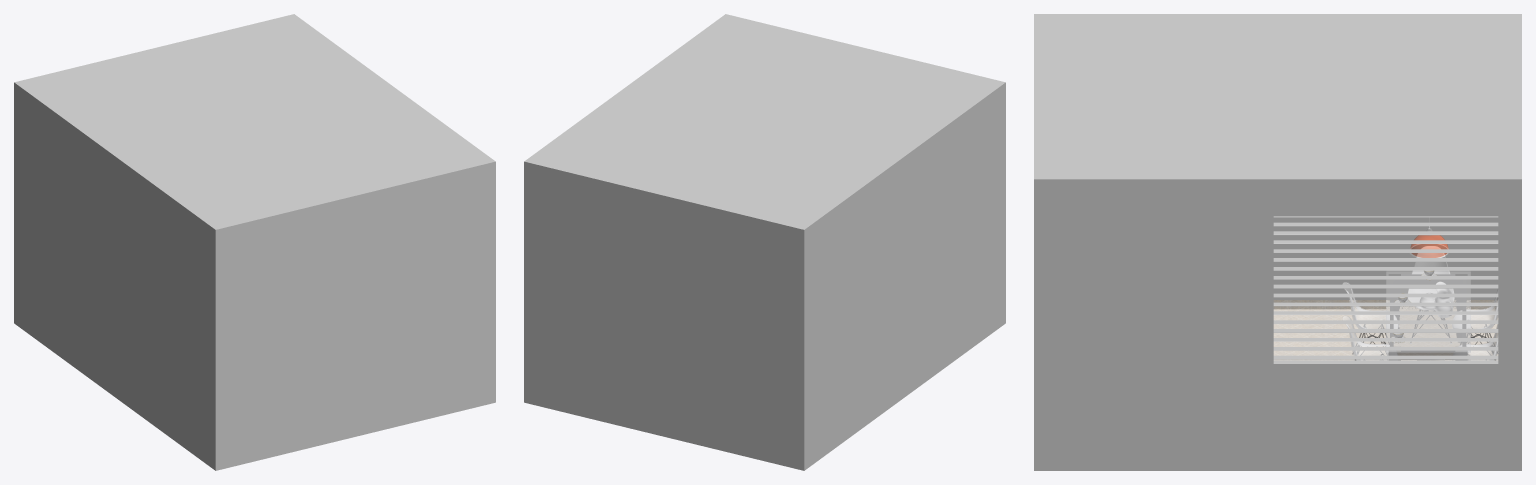
The model's file is breakfast_room.glb.
3 renders of one model, left to right at view 1: azimuth 30°, elevation 25°; view 2: azimuth 150°, elevation 25°; view 3: azimuth 270°, elevation 25°, orthographic. The views are drawn at different scales.
Visible parts, largest first — view 1: breakfast_room_Wall_South, breakfast_room_Wall_West, breakfast_room_Ceiling, breakfast_room_Wall_East, breakfast_room_Wall_North; view 2: breakfast_room_Wall_North, breakfast_room_Wall_West, breakfast_room_Ceiling, breakfast_room_Wall_East, breakfast_room_Wall_South; view 3: breakfast_room_Wall_East, breakfast_room_Ceiling, Blinds_breakfast_room, breakfast_room_Wall_West, breakfast_room_Floor, tabletop_breakfast_room_Interior.069, Chair_seats_and_light_fixture_breakfast_room_Interior.004, breakfast_room_Wall_North, breakfast_room_Wall_South, Table_Legs_breakfast_room_Interior.003.
Boxes of the visible parts, x1,y1,x2,y2 form: breakfast_room_Wall_South: (219, 160, 489, 469); breakfast_room_Wall_West: (14, 81, 221, 470); breakfast_room_Ceiling: (24, 18, 485, 225); breakfast_room_Wall_East: (288, 14, 495, 403); breakfast_room_Wall_North: (20, 15, 291, 83); breakfast_room_Wall_North: (530, 160, 800, 469); breakfast_room_Wall_West: (798, 81, 1005, 470); breakfast_room_Ceiling: (534, 18, 995, 225); breakfast_room_Wall_East: (524, 14, 731, 403); breakfast_room_Wall_South: (728, 15, 999, 83); breakfast_room_Wall_East: (1034, 175, 1521, 470); breakfast_room_Ceiling: (1043, 17, 1512, 175); Blinds_breakfast_room: (1273, 216, 1498, 359); breakfast_room_Wall_West: (1034, 14, 1521, 309); breakfast_room_Floor: (1274, 300, 1497, 355); tabletop_breakfast_room_Interior.069: (1386, 271, 1470, 352); Chair_seats_and_light_fixture_breakfast_room_Interior.004: (1342, 217, 1498, 360); breakfast_room_Wall_North: (1513, 17, 1521, 175); breakfast_room_Wall_South: (1034, 17, 1042, 175); Table_Legs_breakfast_room_Interior.003: (1389, 274, 1467, 355).
Bounding box in the file's own units: 11.98 × 9.85 × 14.93.
15 materials, 2 textured.
